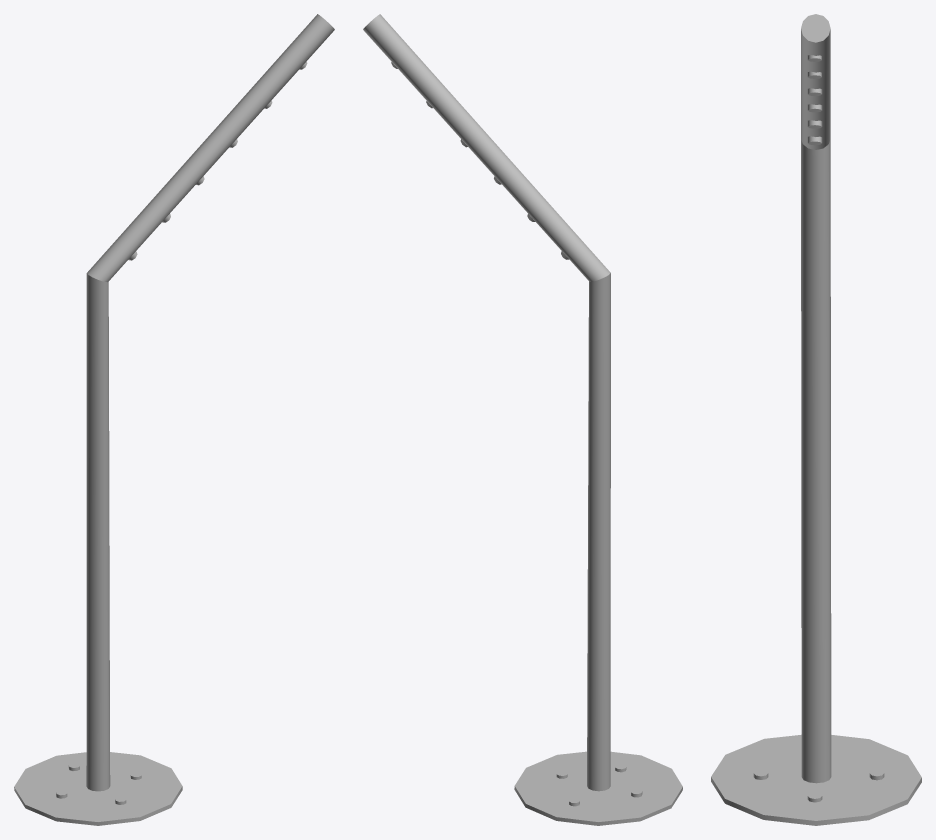
File: Brumisateur.fbx
3 views of the same model, side by side, from view 1: azimuth 30°, elevation 25°; view 2: azimuth 150°, elevation 25°; view 3: azimuth 270°, elevation 25° (orthographic). The views are drawn at different scales.
Parts seen in each view (by area): view 1: Brumisateur; view 2: Brumisateur; view 3: Brumisateur.
Boxes of the visible parts, x1,y1,x2,y2 form: Brumisateur: [14, 14, 334, 825]; Brumisateur: [363, 14, 682, 825]; Brumisateur: [711, 14, 921, 825].
Size of the model in its own units: 120 by 269 by 56.85.
